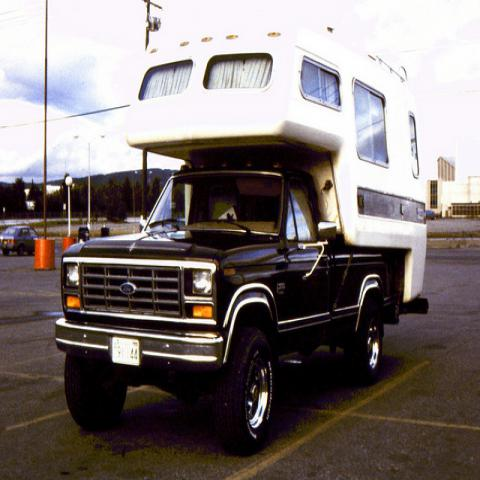car: (0, 225, 39, 256)
truck: (57, 18, 430, 454)
